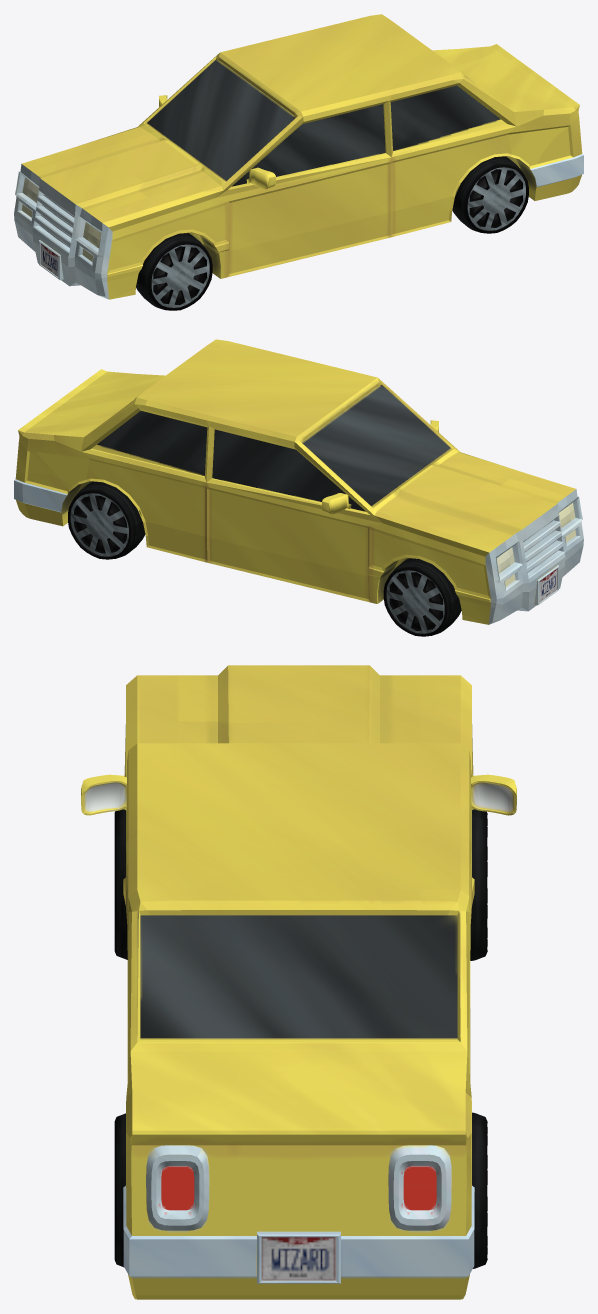
File: Car_08.fbx
3 renders of one model, top to bottom at view 1: azimuth 30°, elevation 25°; view 2: azimuth 150°, elevation 25°; view 3: azimuth 270°, elevation 25°, orthographic. The views are drawn at different scales.
Visible parts, largest first — view 1: Car, FrontLeftWheel, BackLeftWheel; view 2: Car, FrontRightWheel, BackRightWheel; view 3: Car, FrontRightWheel, BackRightWheel, FrontLeftWheel, BackLeftWheel.
Part boxes in pixels (x1=…): Car: x1=14, y1=14, x2=583, y2=299; FrontLeftWheel: x1=136, y1=233, x2=212, y2=310; BackLeftWheel: x1=452, y1=156, x2=528, y2=233; Car: x1=14, y1=339, x2=583, y2=624; FrontRightWheel: x1=383, y1=558, x2=461, y2=636; BackRightWheel: x1=68, y1=481, x2=145, y2=559; Car: x1=81, y1=665, x2=516, y2=1299; FrontRightWheel: x1=470, y1=809, x2=487, y2=960; BackRightWheel: x1=472, y1=1112, x2=487, y2=1268; FrontLeftWheel: x1=114, y1=809, x2=127, y2=959; BackLeftWheel: x1=114, y1=1113, x2=125, y2=1267.
Bounding box in the file's own units: 485 × 157 × 185.
